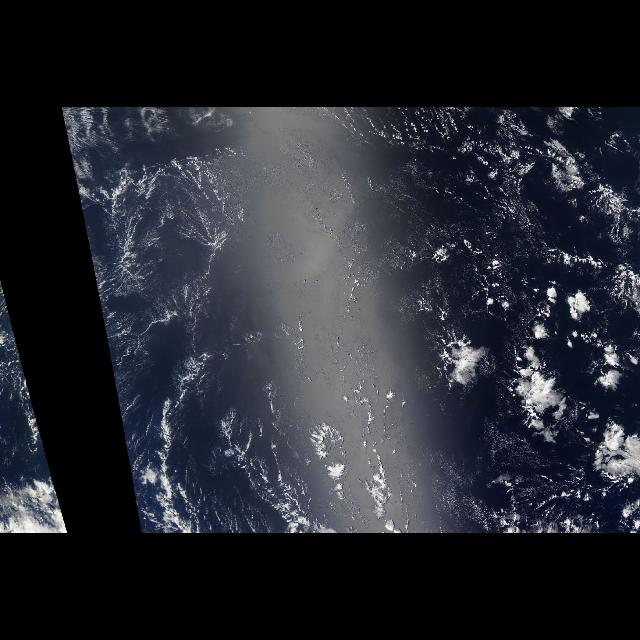Flower: (418, 234, 640, 532)
Sugar: (61, 107, 248, 415)
